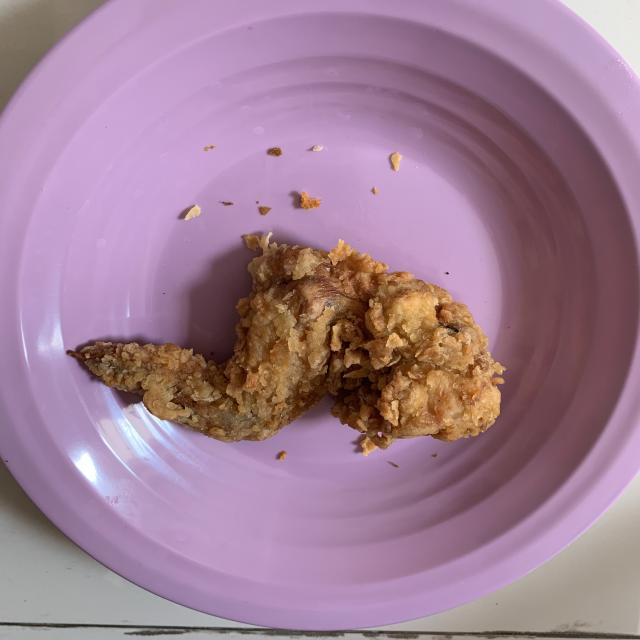Frango: (77, 231, 500, 442)
